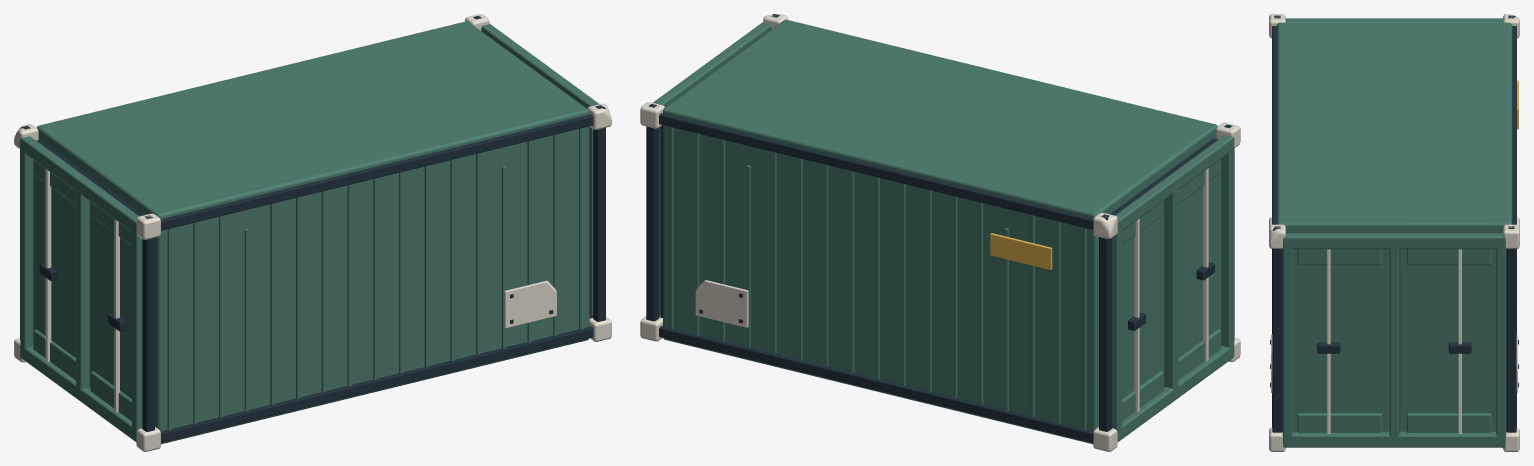
The model's file is container_green.glb.
The picture shows the model from 3 angles, left to right: view 1: azimuth 30°, elevation 25°; view 2: azimuth 150°, elevation 25°; view 3: azimuth 270°, elevation 25°; orthographic projection. The views are drawn at different scales.
Visible parts, largest first — view 1: container_green_green, container_green_ink, container_green_cream; view 2: container_green_green, container_green_ink, container_green_cream, placard; view 3: container_green_green, container_green_ink, container_green_cream.
Part boxes in pixels (x1=…): container_green_green: x1=20, y1=21, x2=598, y2=444; container_green_ink: x1=20, y1=15, x2=605, y2=442; container_green_cream: x1=14, y1=14, x2=611, y2=451; container_green_green: x1=653, y1=20, x2=1234, y2=444; container_green_ink: x1=646, y1=14, x2=1234, y2=442; container_green_cream: x1=640, y1=14, x2=1240, y2=451; placard: x1=990, y1=233, x2=1052, y2=269; container_green_green: x1=1276, y1=18, x2=1512, y2=447; container_green_ink: x1=1270, y1=15, x2=1518, y2=432; container_green_cream: x1=1269, y1=14, x2=1519, y2=451.
Size of the model in its own units: 6.17 by 2.9 by 2.98.
